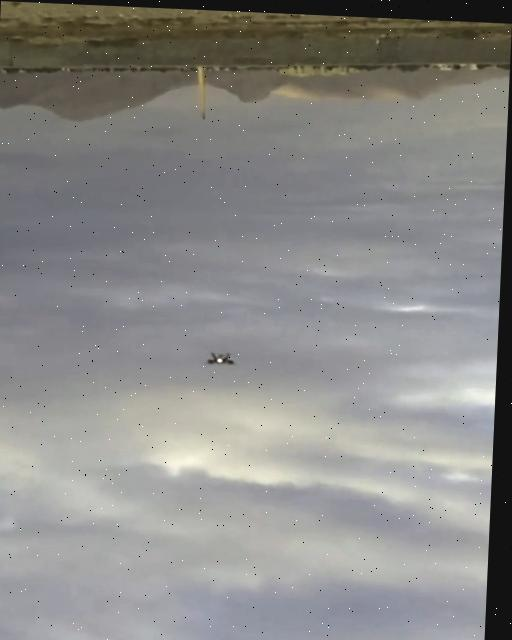drone: (204, 345, 242, 368)
